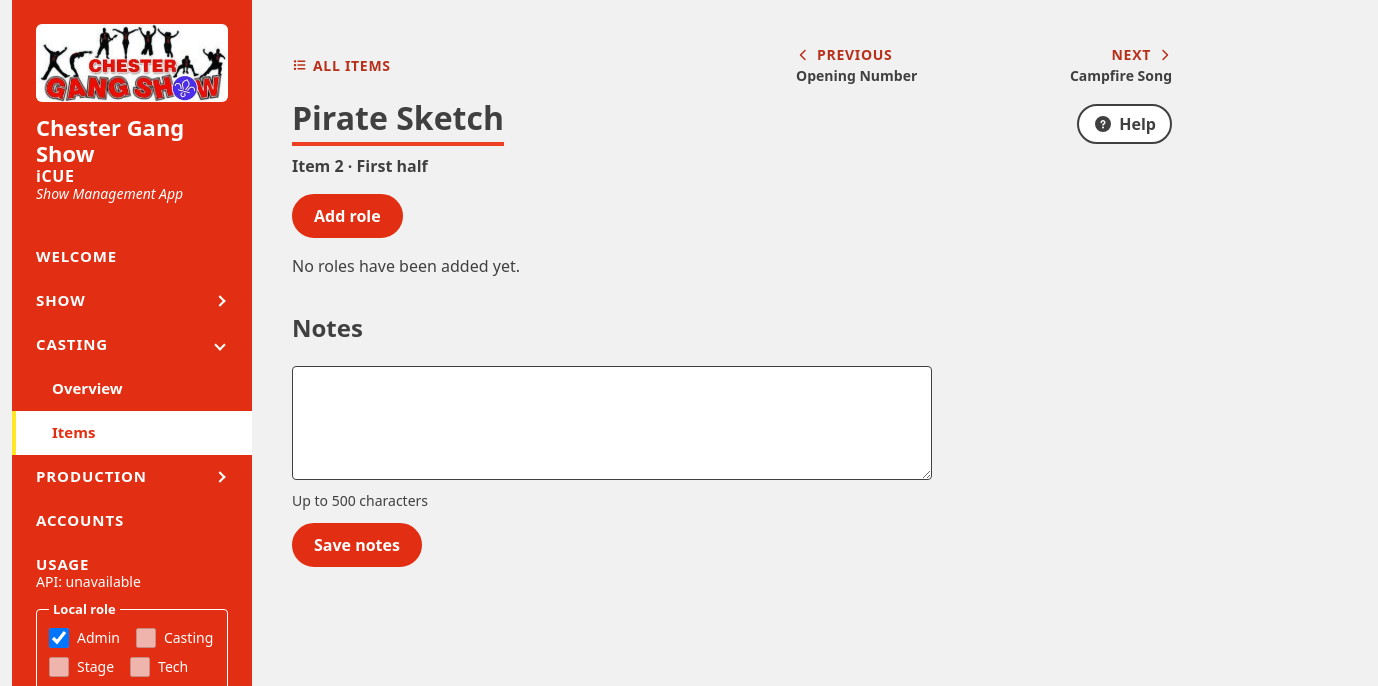
Adding roles to an item › asks for a role name when it's empty, adding nothing
Click the button with test id "add-role". click: [347, 216]
box: [292,194,403,238]
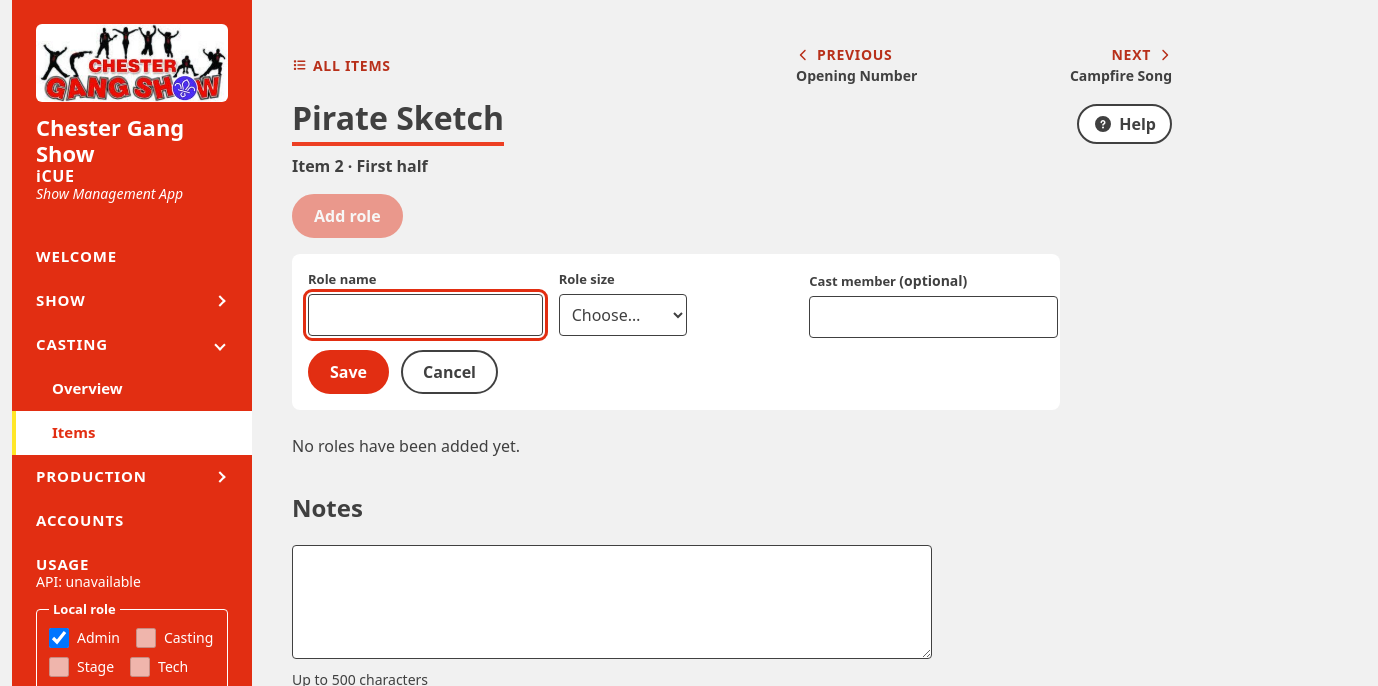
Select "Lead" in the dropdown named "size". click: [623, 314]
box: [559,294,687,336]
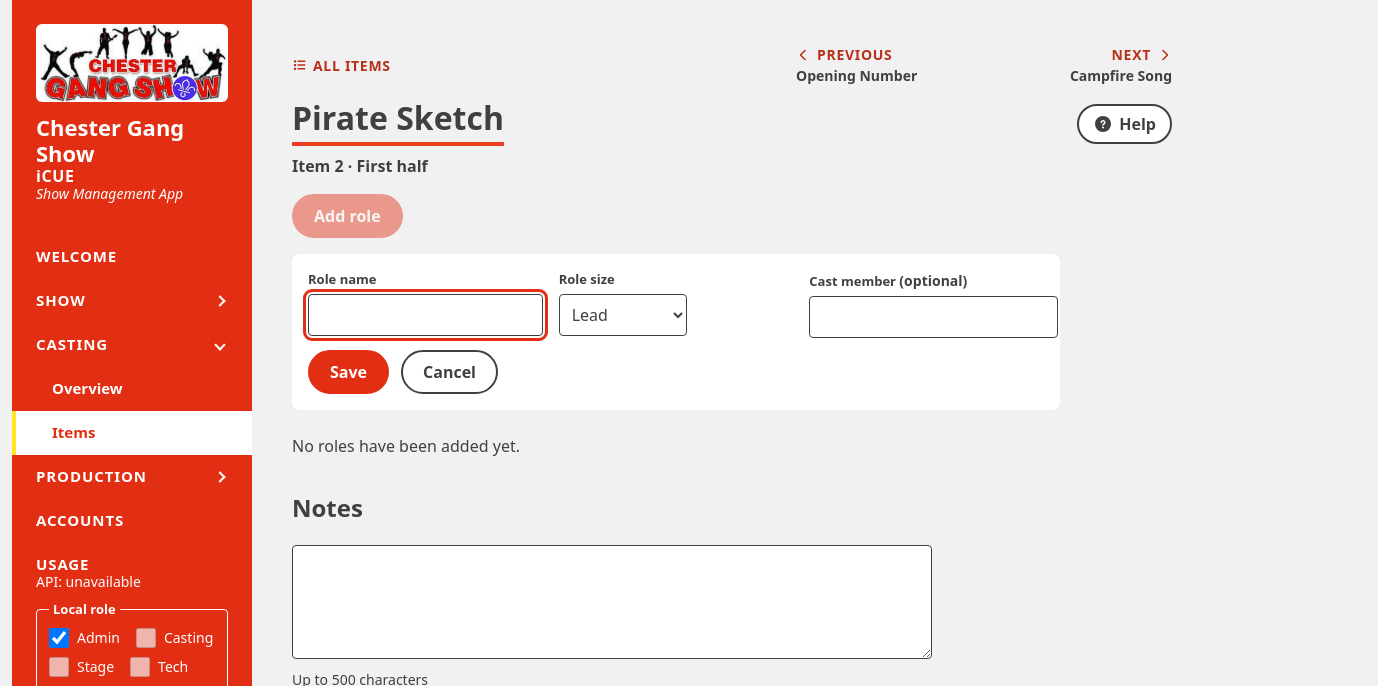
Submit the form named "Add role", box [292,254,1060,410]
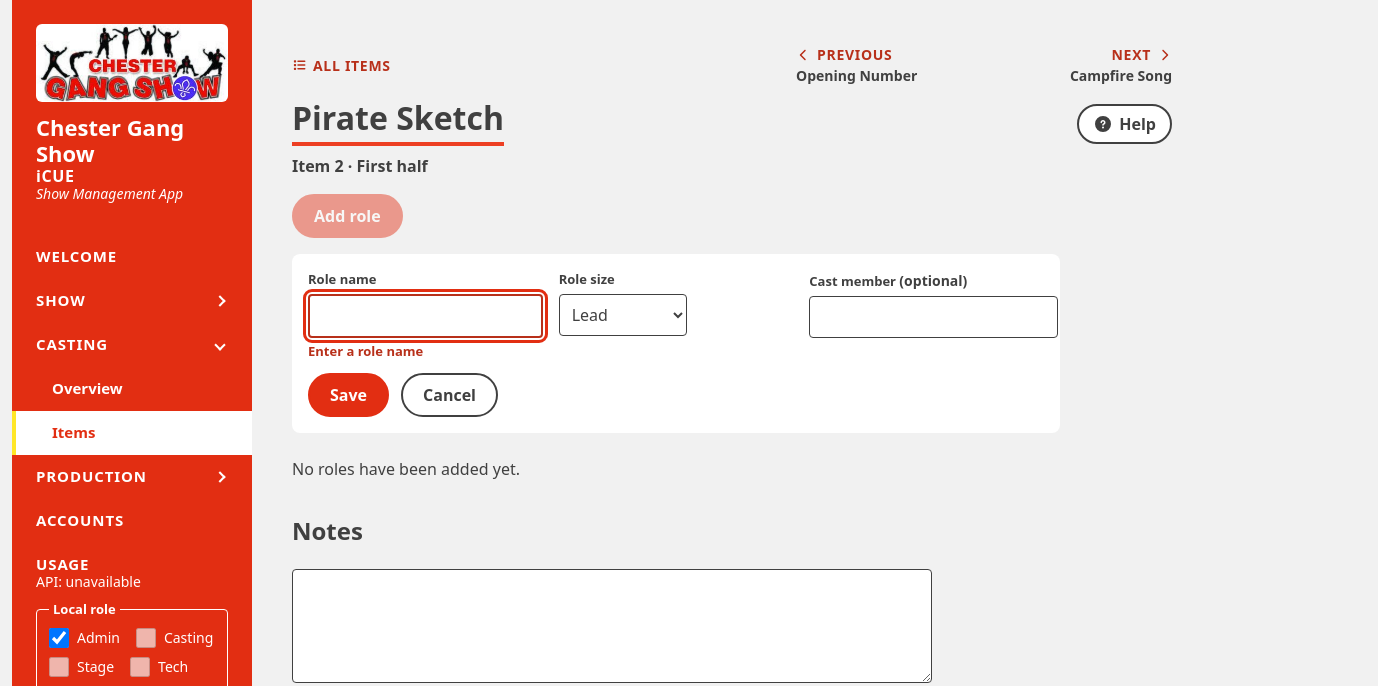
Expected: the text "Enter a role name" is shown, [308,342,423,360]
